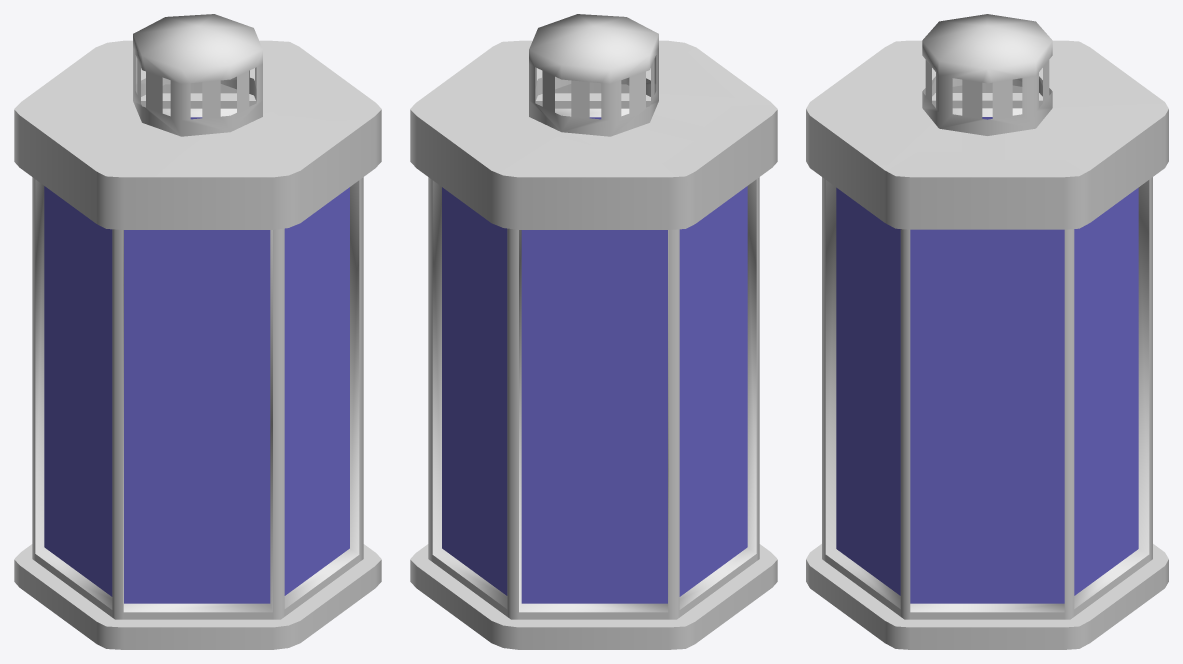
File: latnern.glb
3 renders of one model, left to right at view 1: azimuth 30°, elevation 25°; view 2: azimuth 150°, elevation 25°; view 3: azimuth 270°, elevation 25°, orthographic.
Visible parts, largest first — view 1: Cylinder; view 2: Cylinder; view 3: Cylinder.
Boxes of the visible parts, box(x1,y1,x2,y2) form: Cylinder: box(14, 14, 381, 649); Cylinder: box(410, 14, 777, 649); Cylinder: box(806, 14, 1168, 649).
Size of the model in its own units: 0.2344 by 0.4442 by 0.263.
